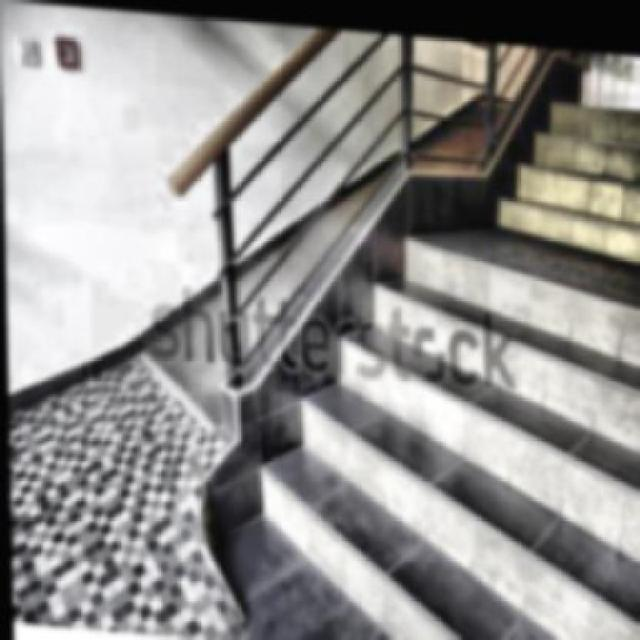stair: (211, 140, 638, 638)
